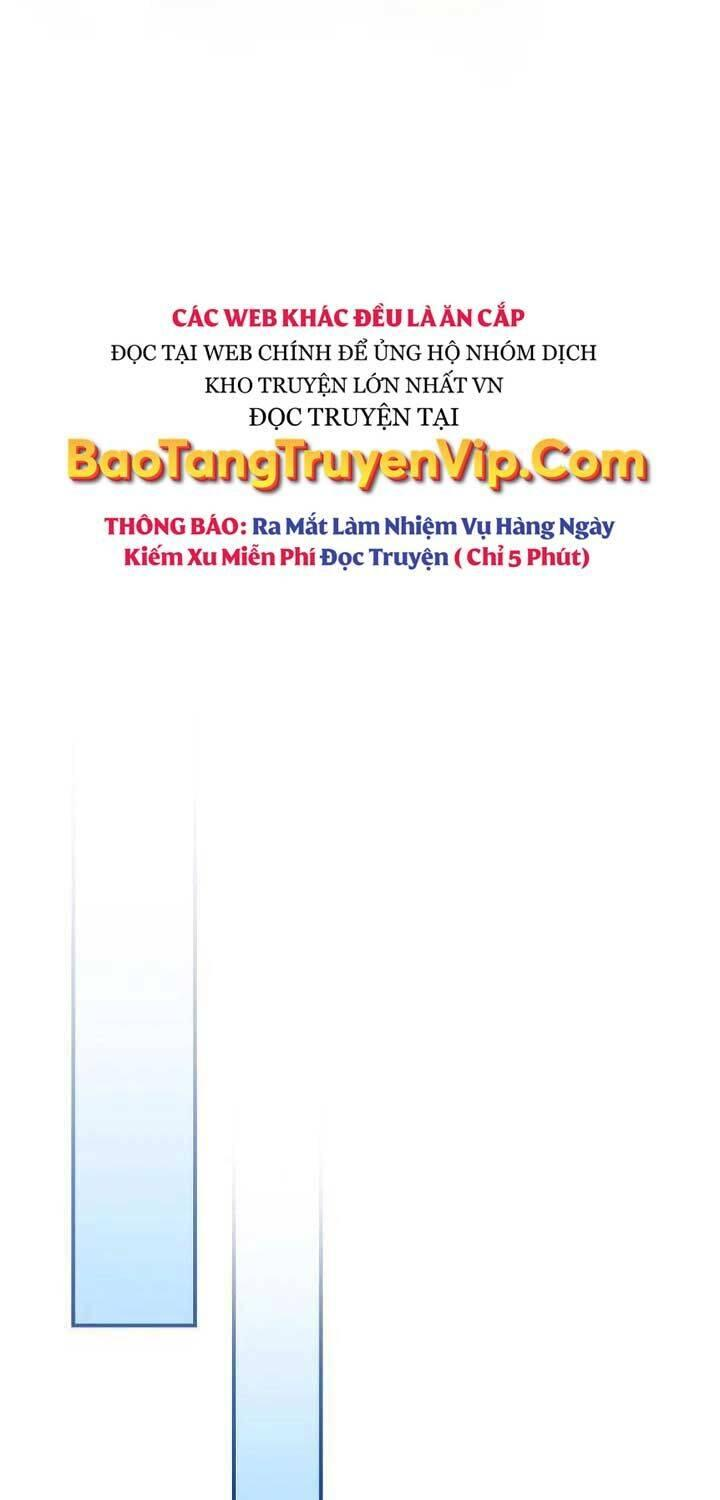quangcao: (64, 300, 654, 574)
